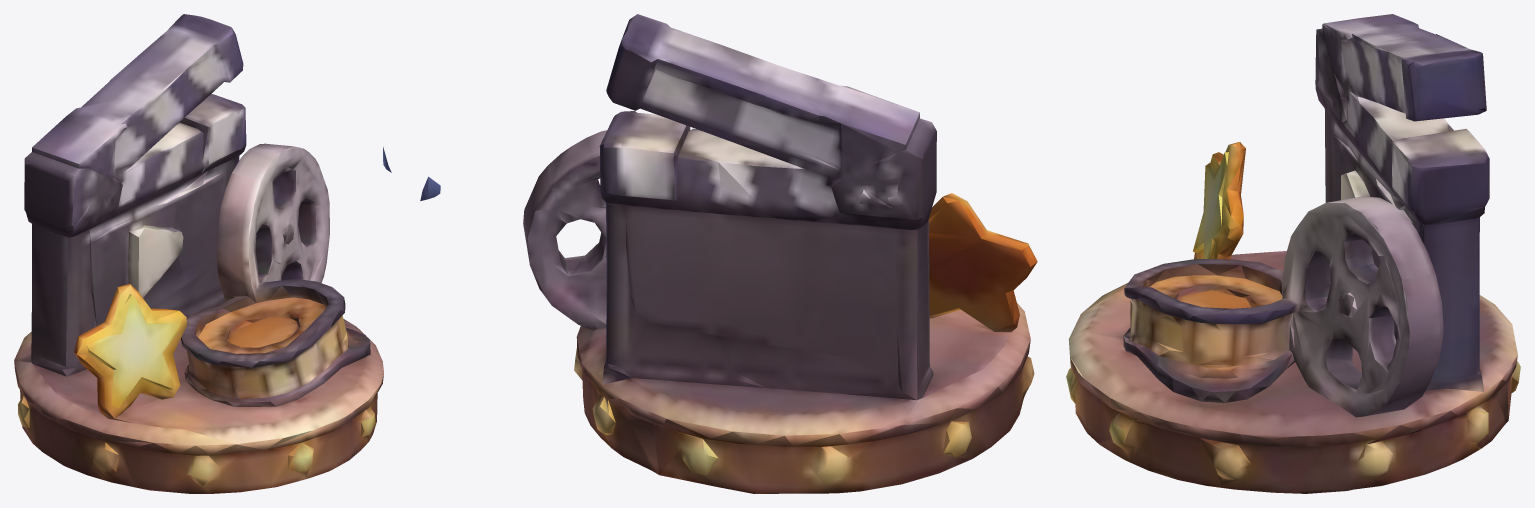
The model's file is deco05.glb.
The picture shows the model from 3 angles, left to right: view 1: azimuth 30°, elevation 25°; view 2: azimuth 150°, elevation 25°; view 3: azimuth 270°, elevation 25°; orthographic projection. The views are drawn at different scales.
Bounding box in the file's own units: 0.2855 × 0.2208 × 0.2308.
1 material, 1 textured.
